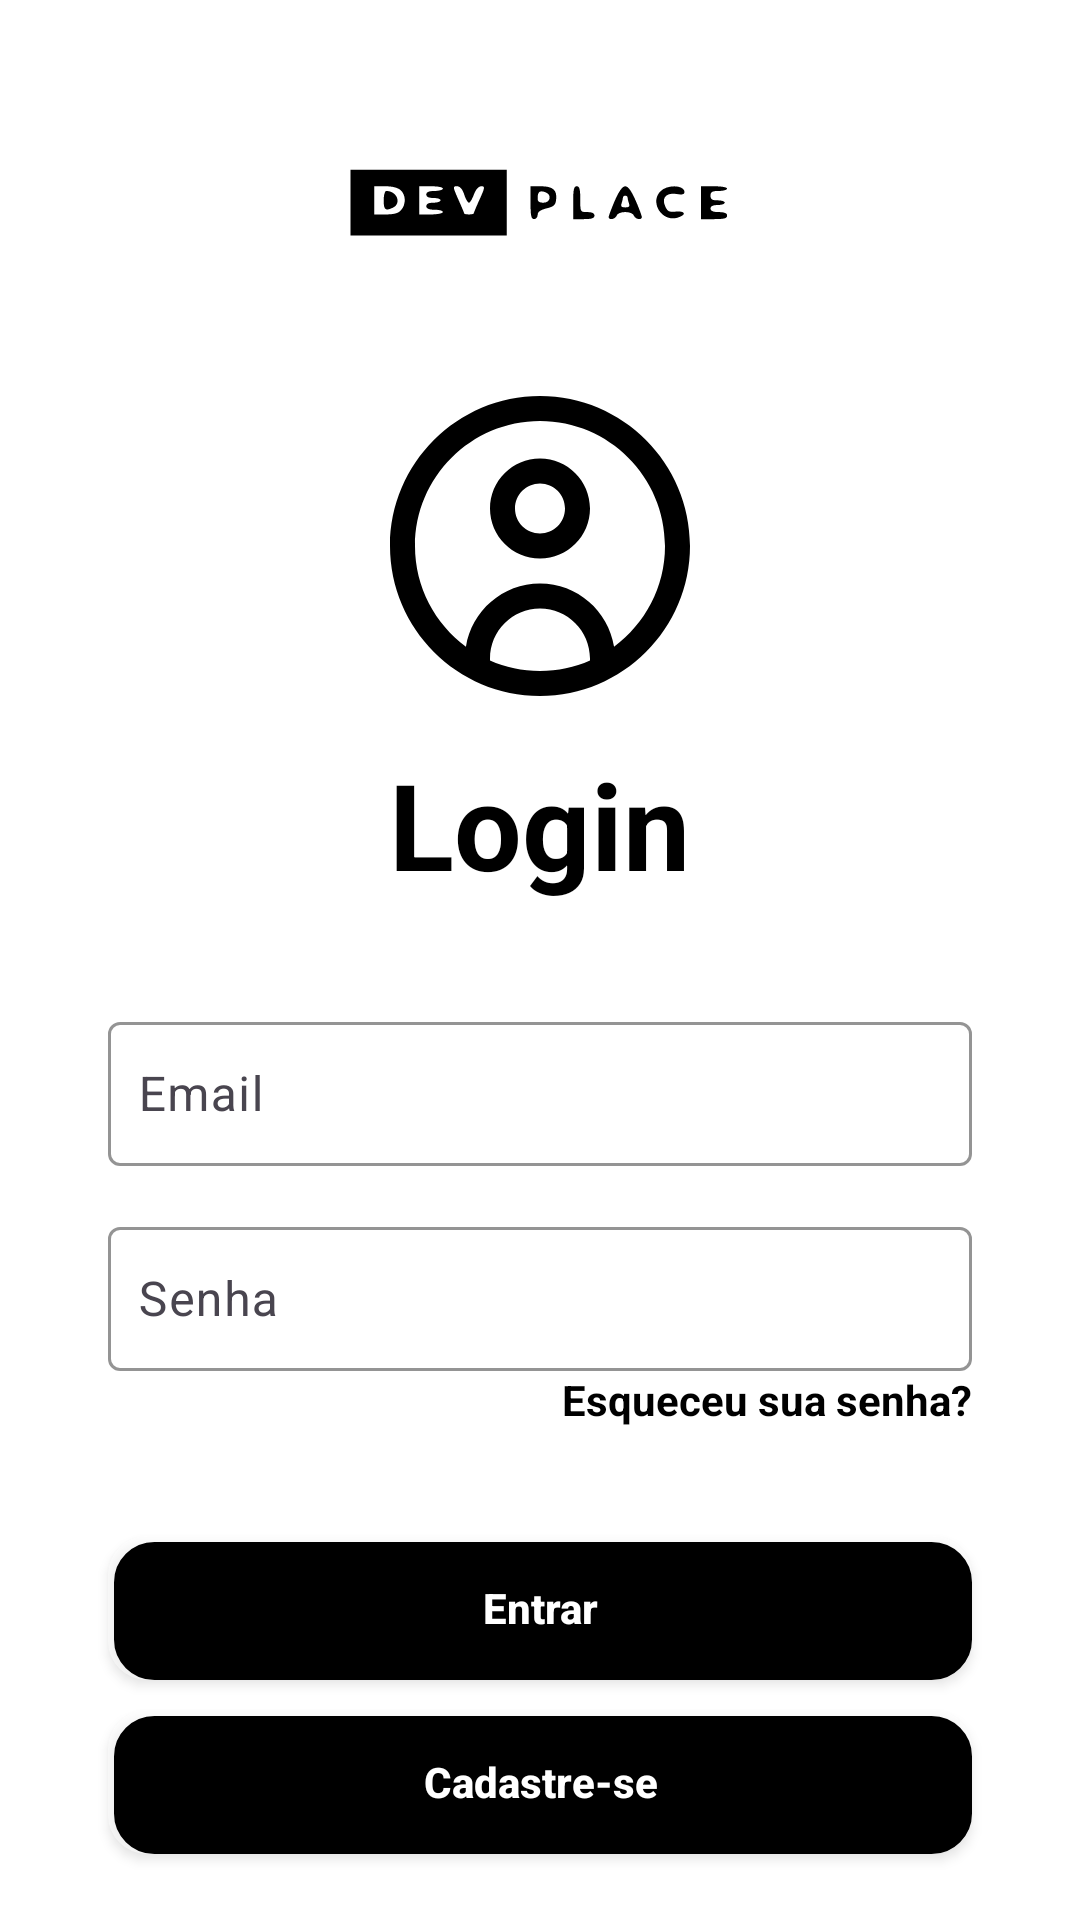

Icons on this 1080x1920 Android screen, each with the point to tap as (x=x, y=y):
user: (x=540, y=546)
